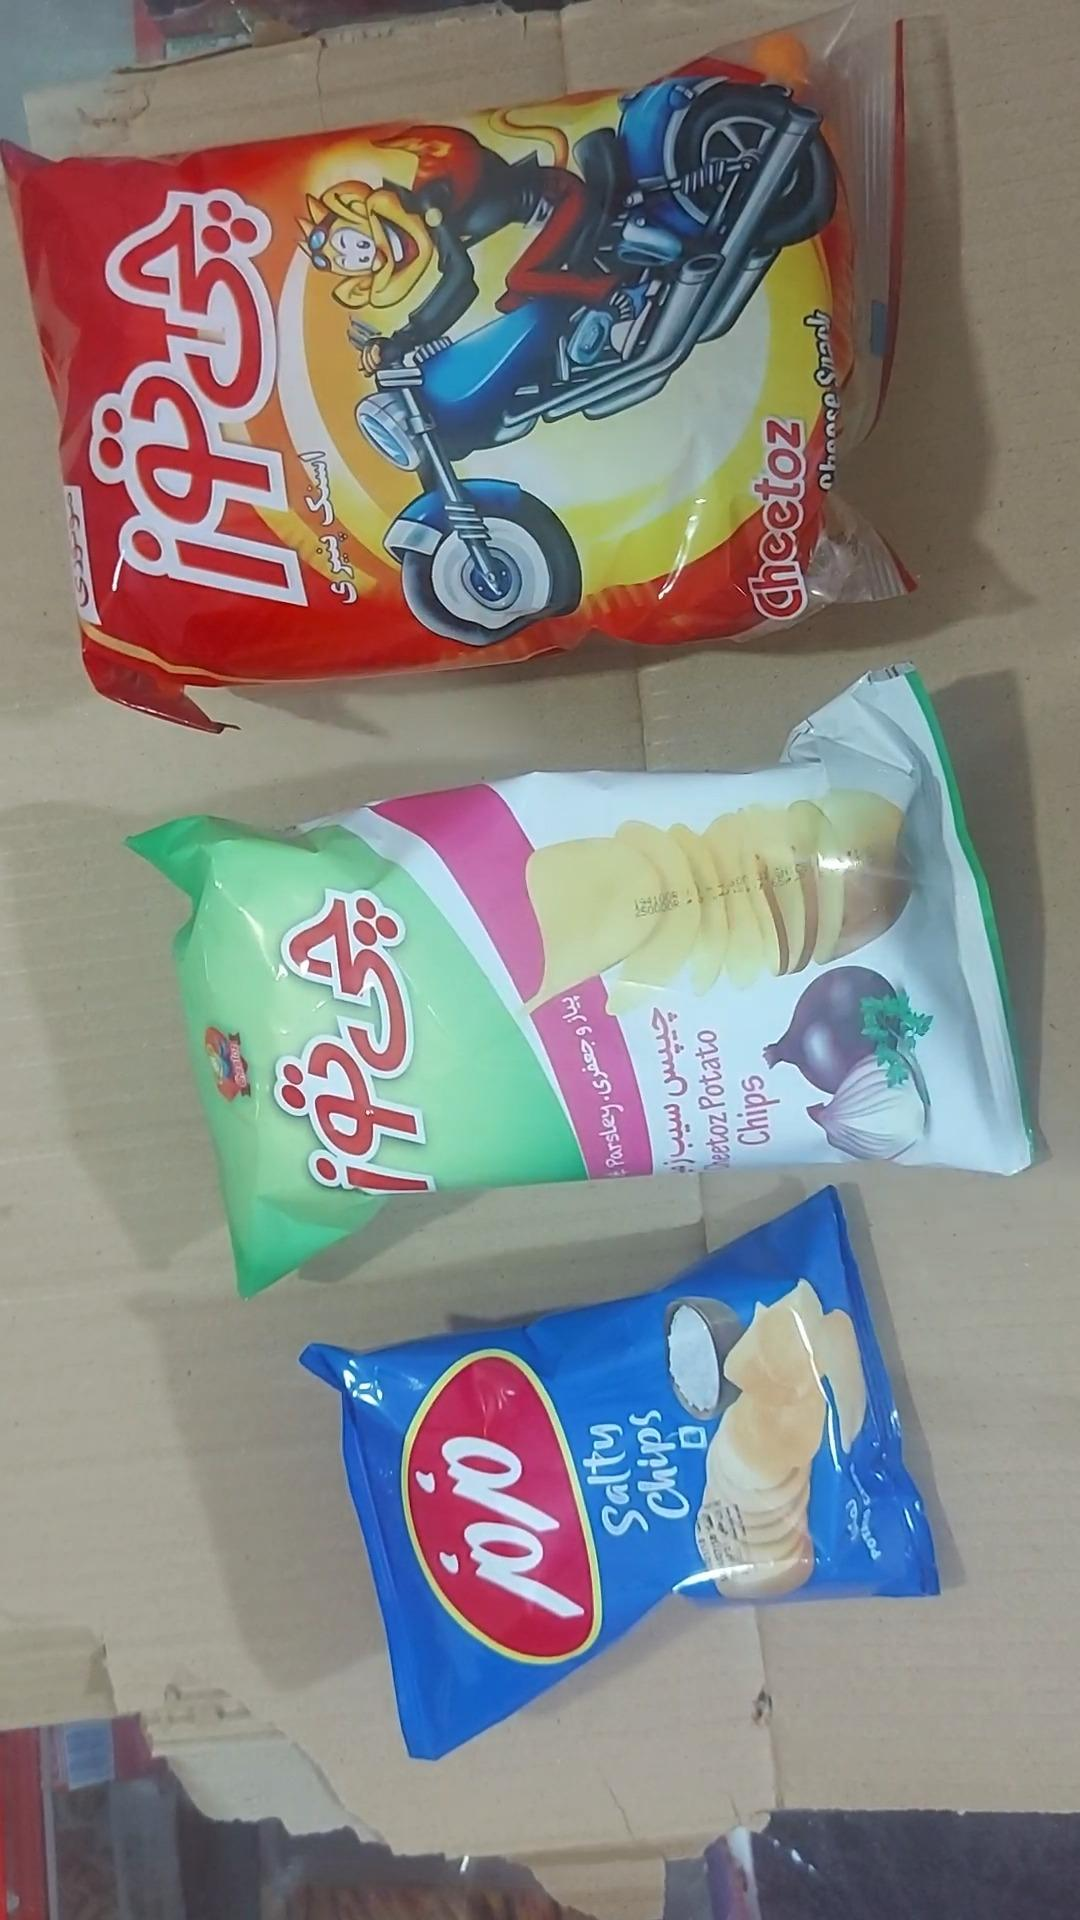Cheetoz onion and parsley chips: (125, 666, 1042, 1302)
Cheetoz snack 90g: (0, 8, 923, 737)
Maz Maz salty chips: (298, 1189, 942, 1764)
